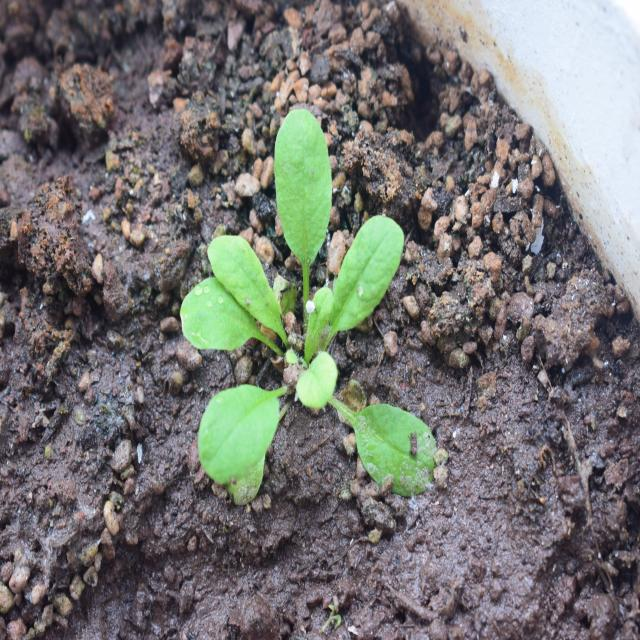Shepherd_Purse: (177, 94, 455, 494)
